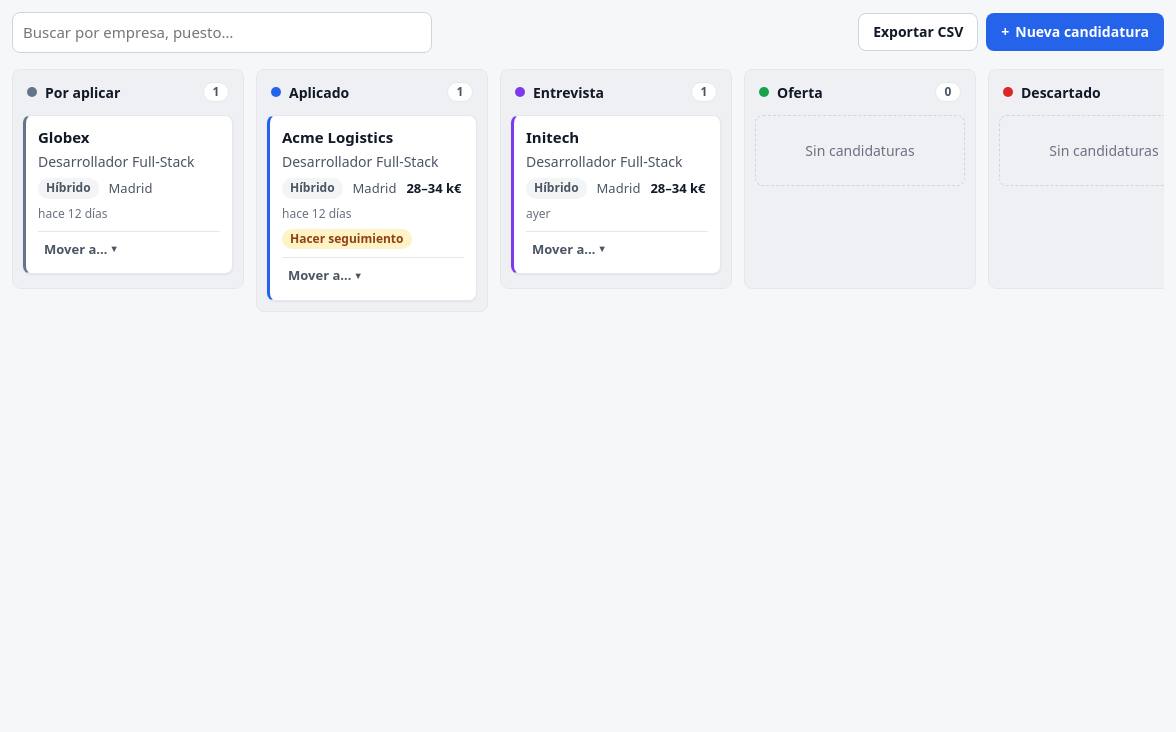
Test: BoardView › moves a card with the menu and confirms it with a toast
Click the heading "Mover a…" below "Hacer seguimiento" at (324, 276), box [282,264,366,288]
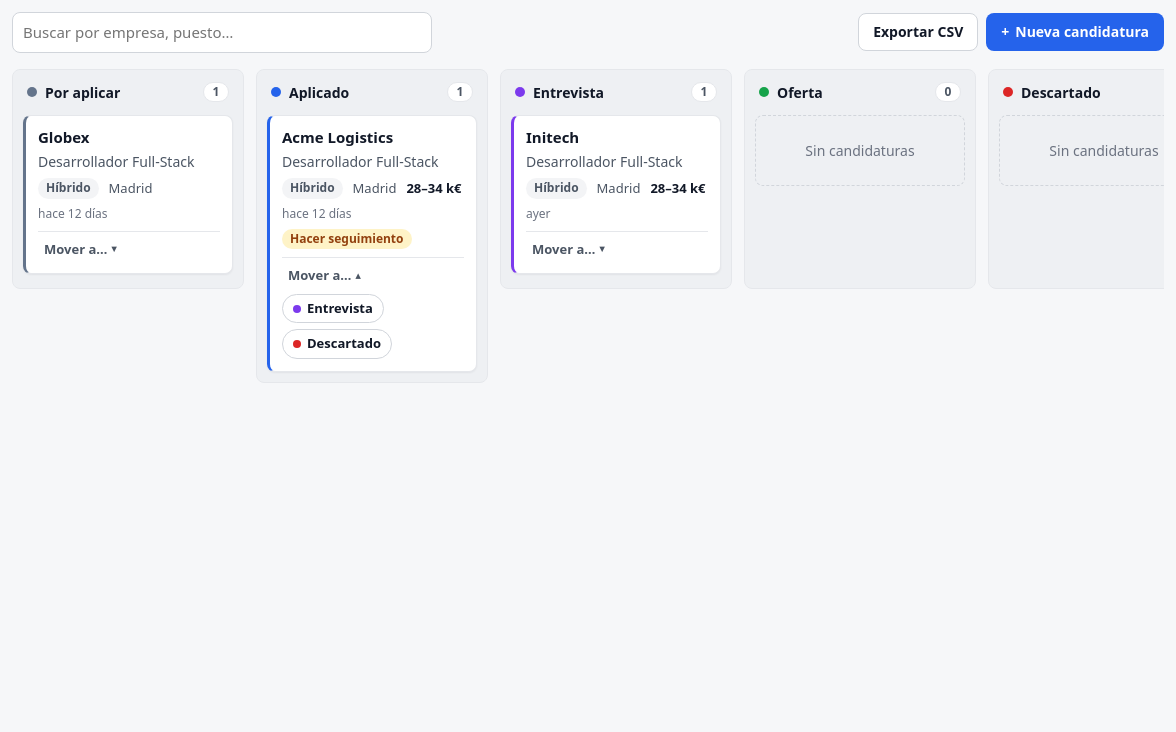
Click the button "Entrevista" at (333, 309), box [282,294,384,324]
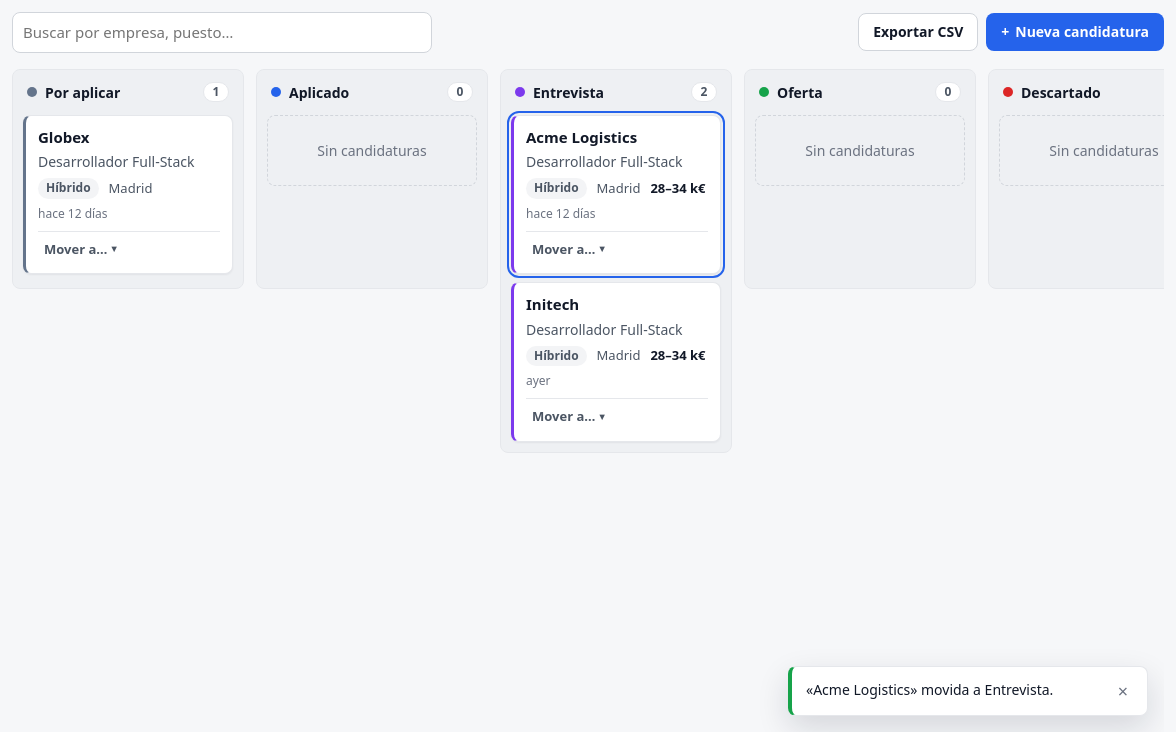
Check: the button "Acme Logistics" is shown, box [526,128,637,147]
Check: the text "«Acme Logistics» movida a Entrevista." is shown, box [806,680,1053,699]
